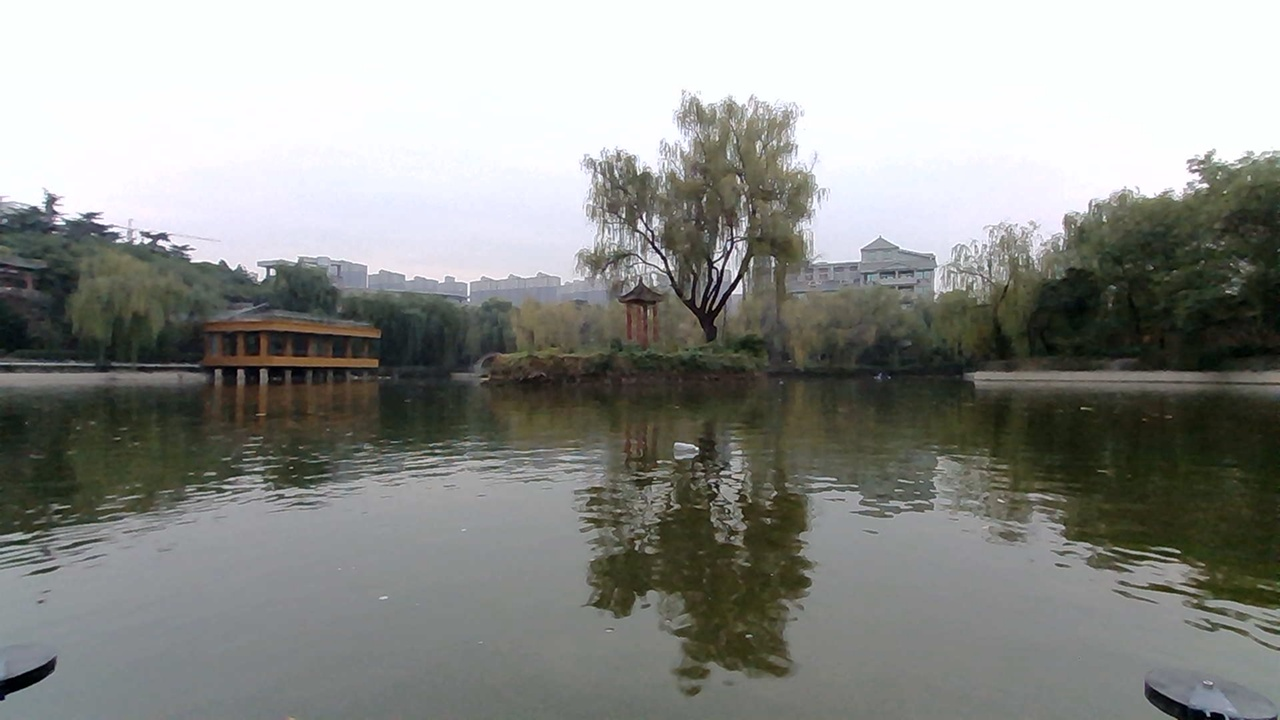bottle: (655, 428, 719, 461)
